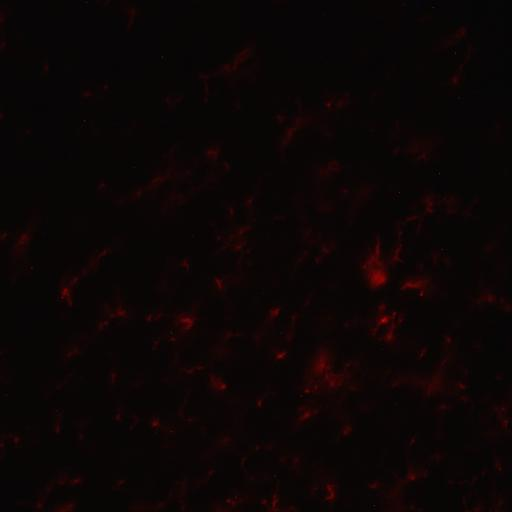microglia: (214, 44, 264, 86), (281, 96, 314, 152), (396, 136, 450, 166), (444, 50, 476, 88), (319, 91, 354, 116), (194, 67, 213, 105), (436, 26, 470, 42), (162, 90, 186, 110), (129, 182, 146, 210), (288, 309, 300, 347), (148, 170, 172, 189), (221, 324, 243, 344), (229, 239, 253, 257), (211, 274, 230, 296), (370, 269, 390, 288), (107, 303, 130, 318), (379, 314, 402, 328), (394, 242, 407, 266), (479, 290, 496, 308), (216, 433, 236, 448), (49, 503, 81, 512), (324, 159, 342, 175), (126, 6, 138, 30), (316, 242, 336, 255), (72, 344, 87, 361), (292, 452, 303, 475), (204, 148, 222, 162), (212, 225, 224, 246), (181, 364, 206, 374), (17, 229, 30, 248), (70, 474, 85, 489), (204, 466, 218, 482), (144, 312, 166, 322), (341, 314, 352, 333), (341, 184, 352, 202), (184, 413, 197, 427), (168, 334, 185, 344), (97, 320, 111, 332), (500, 416, 512, 430), (275, 110, 287, 124), (182, 315, 198, 325), (180, 257, 190, 273), (268, 307, 282, 318), (496, 403, 510, 414), (495, 496, 506, 510), (306, 291, 314, 310), (323, 492, 338, 502), (111, 411, 124, 422), (114, 477, 128, 487), (418, 345, 428, 359), (100, 245, 110, 259), (472, 501, 484, 512), (274, 352, 287, 362), (324, 482, 337, 492), (403, 471, 416, 481), (493, 460, 503, 473), (152, 335, 160, 351), (109, 370, 117, 386), (236, 227, 252, 235), (63, 349, 72, 363), (240, 456, 251, 467), (342, 426, 354, 436), (407, 280, 420, 289), (54, 420, 62, 434), (261, 496, 268, 512), (456, 382, 468, 391), (385, 332, 395, 342), (426, 206, 436, 216), (314, 255, 324, 265), (234, 100, 244, 110), (374, 242, 381, 256), (254, 442, 261, 456), (427, 195, 435, 207), (221, 382, 230, 392), (271, 500, 280, 510), (368, 481, 378, 490), (442, 336, 453, 344), (439, 402, 448, 411), (72, 275, 81, 284), (67, 298, 75, 308), (225, 497, 233, 506), (62, 287, 70, 296), (244, 198, 256, 204), (228, 205, 234, 217), (318, 360, 326, 368), (407, 216, 419, 221), (44, 64, 50, 74), (304, 414, 312, 421), (98, 182, 106, 189), (0, 231, 8, 238), (330, 382, 339, 388), (418, 290, 427, 296), (258, 401, 264, 409), (152, 422, 160, 428), (396, 229, 404, 235), (82, 92, 90, 98), (304, 388, 310, 395), (410, 438, 417, 444), (351, 386, 357, 393), (324, 374, 330, 380), (314, 386, 320, 390), (104, 84, 108, 90), (83, 120, 86, 124), (164, 119, 166, 123)
